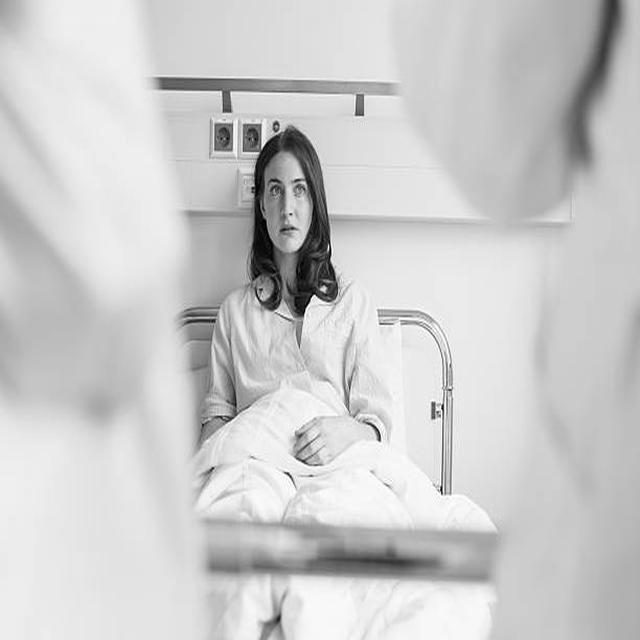Fear: (266, 153, 310, 252)
